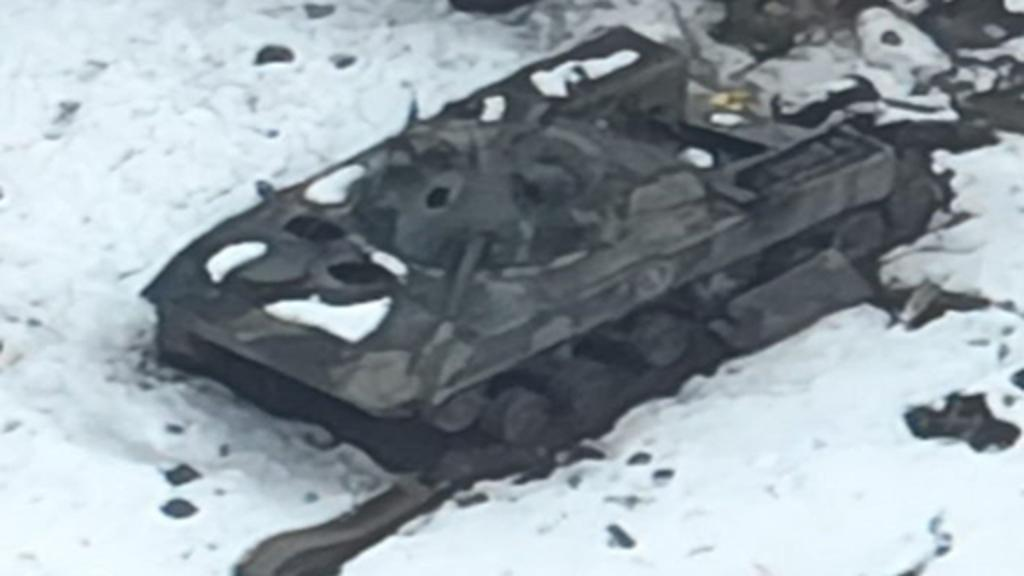APC-IFV: (142, 18, 900, 438)
